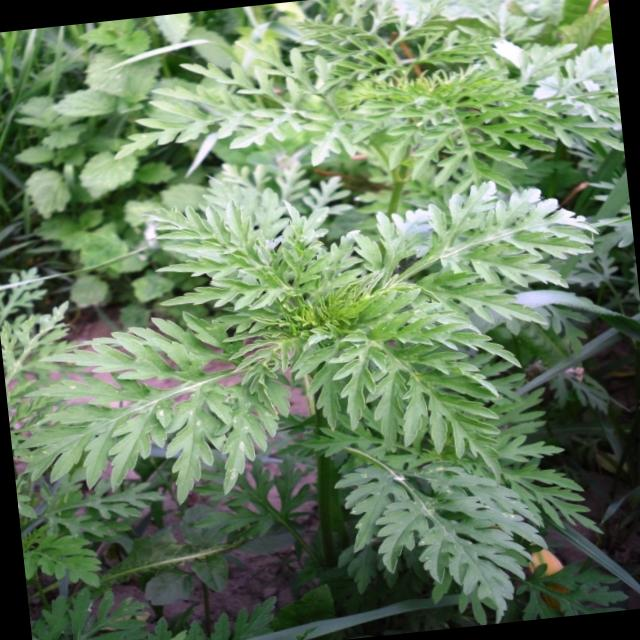ambrosia: (33, 143, 629, 606)
